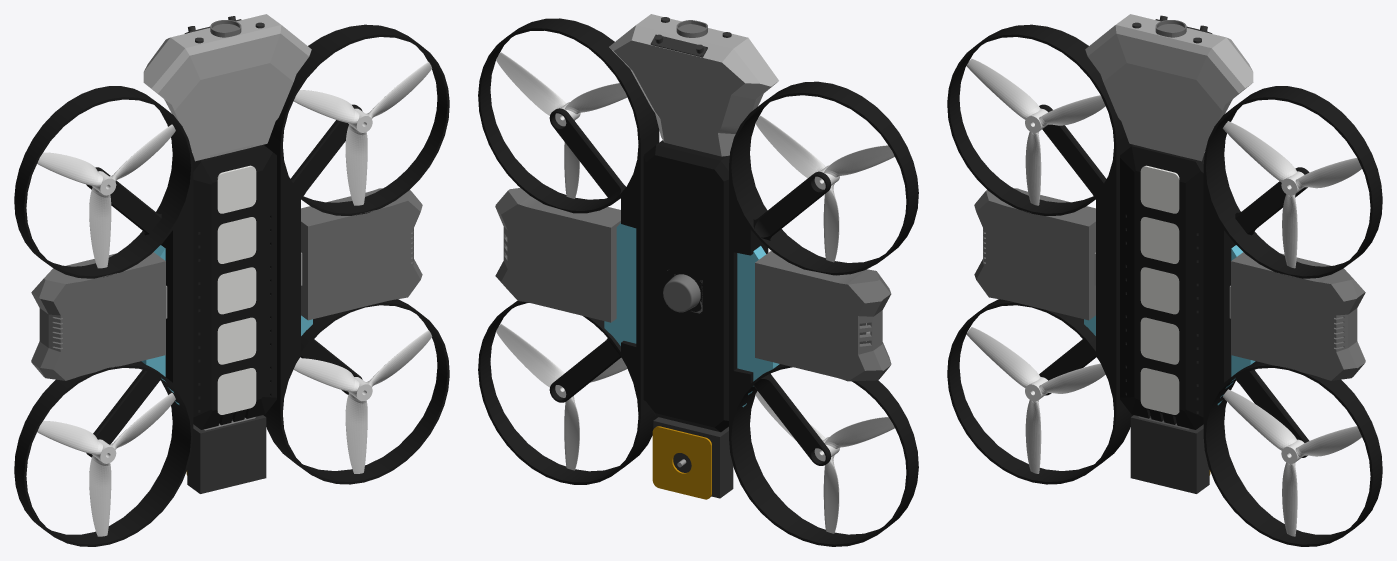
Rendered from mantaMini v8.fbx.
3 renders of one model, left to right at view 1: azimuth 30°, elevation 25°; view 2: azimuth 150°, elevation 25°; view 3: azimuth 330°, elevation 25°, orthographic.
Parts seen in each view (by area): view 1: BODY L, BODY R, Body28, MAIN BODY, Body43, Body29, COMPUTE, propeller (1), propeller (1) (1) (1), propeller (1) (1), propeller, FRONT IO (+5 smaller); view 2: MAIN BODY, BODY L, BODY R, Body43, Body28, Body29, COOLING CHANNEL, propeller (1), propeller, POWER DIST, propeller (1) (1) (1), propeller (1) (1) (+3 smaller); view 3: BODY R, BODY L, Body28, MAIN BODY, Body29, Body43, COMPUTE, propeller (1) (1) (1), propeller, propeller (1), propeller (1) (1), FRONT IO (+5 smaller).
Boxes of the visible parts, x1,y1,x2,y2 form: BODY L: [14, 86, 193, 546]; BODY R: [263, 24, 449, 484]; Body28: [143, 14, 311, 161]; MAIN BODY: [192, 144, 276, 429]; Body43: [31, 252, 165, 380]; Body29: [301, 188, 422, 320]; COMPUTE: [187, 415, 266, 493]; propeller (1): [37, 124, 175, 268]; propeller (1) (1) (1): [293, 330, 432, 473]; propeller (1) (1): [37, 393, 175, 536]; propeller: [294, 62, 432, 205]; FRONT IO: [217, 165, 256, 213]; MAIN BODY: [643, 140, 729, 432]; BODY L: [729, 81, 918, 546]; BODY R: [478, 18, 659, 484]; Body43: [755, 251, 891, 381]; Body28: [609, 14, 778, 156]; Body29: [495, 188, 620, 322]; COOLING CHANNEL: [604, 223, 779, 407]; propeller (1): [755, 115, 894, 262]; propeller: [496, 52, 627, 198]; POWER DIST: [652, 426, 711, 499]; propeller (1) (1) (1): [496, 324, 627, 470]; propeller (1) (1): [755, 391, 894, 533]; BODY R: [1203, 86, 1382, 546]; BODY L: [947, 24, 1133, 484]; Body28: [1085, 14, 1253, 161]; MAIN BODY: [1120, 144, 1204, 429]; Body29: [1231, 252, 1365, 380]; Body43: [974, 188, 1095, 320]; COMPUTE: [1130, 415, 1209, 493]; propeller (1) (1) (1): [1223, 389, 1361, 536]; propeller: [1223, 121, 1361, 268]; propeller (1): [966, 58, 1105, 205]; propeller (1) (1): [966, 327, 1105, 473]; FRONT IO: [1140, 165, 1179, 213].
Bounding box in the file's own units: 664 × 714 × 72.22.
